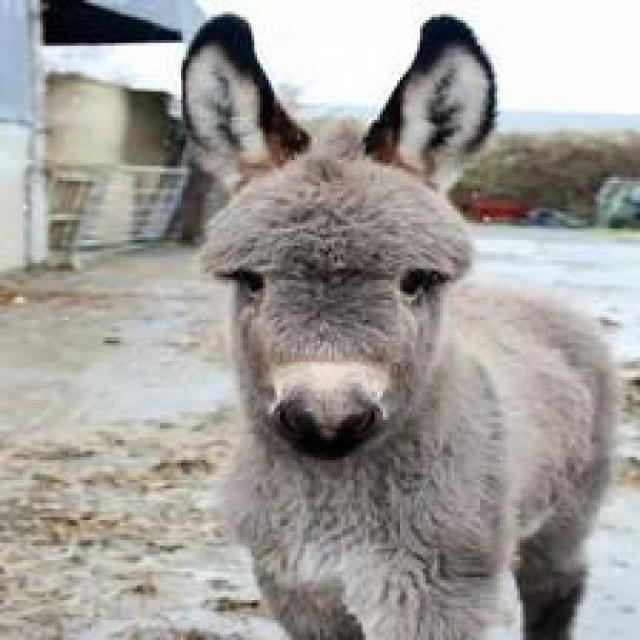Donkey: (177, 9, 623, 637)
